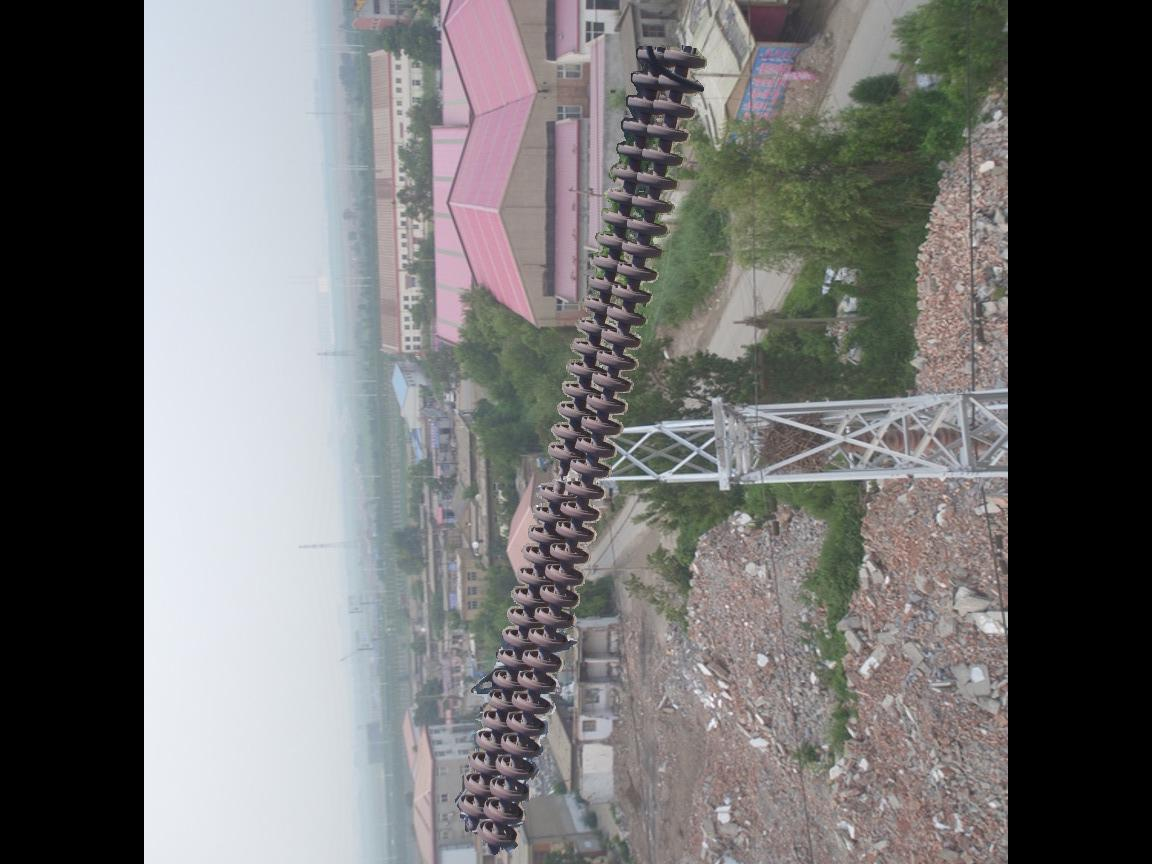insulator: (452, 40, 708, 854)
insulator_stringdrop: (532, 439, 580, 508)
